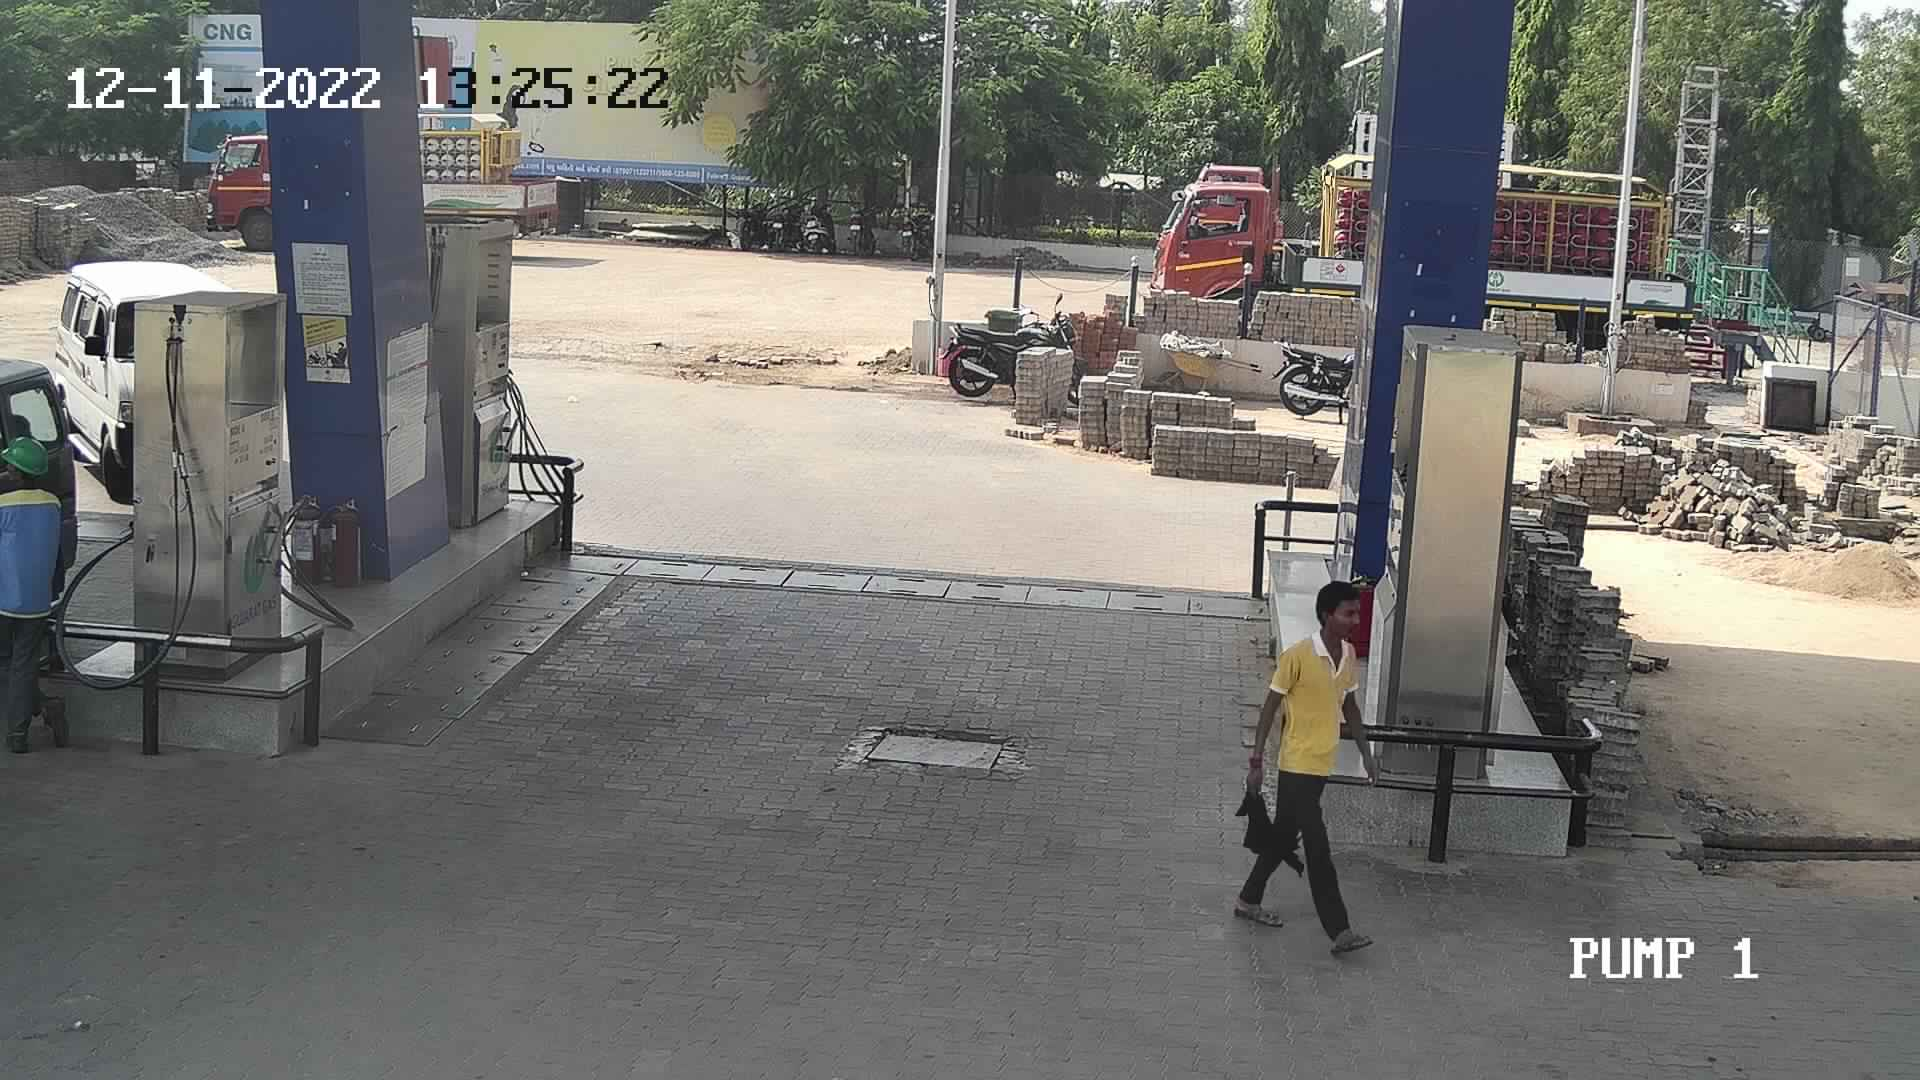Bike: (935, 291, 1088, 410), (1266, 332, 1364, 431), (729, 179, 781, 252), (796, 187, 844, 258), (841, 187, 884, 264), (893, 191, 936, 264), (764, 185, 802, 255)
Car: (28, 256, 240, 493), (1, 342, 95, 692)
HMV: (1138, 146, 1375, 347), (1185, 98, 1383, 266), (411, 88, 591, 258)
Others: (0, 427, 87, 764)
